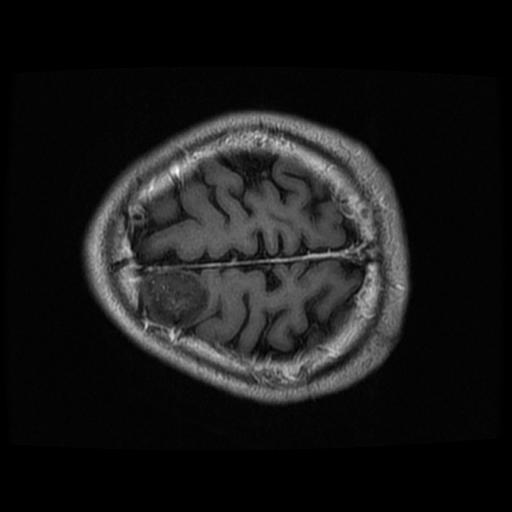glioma: (141, 269, 209, 329)
